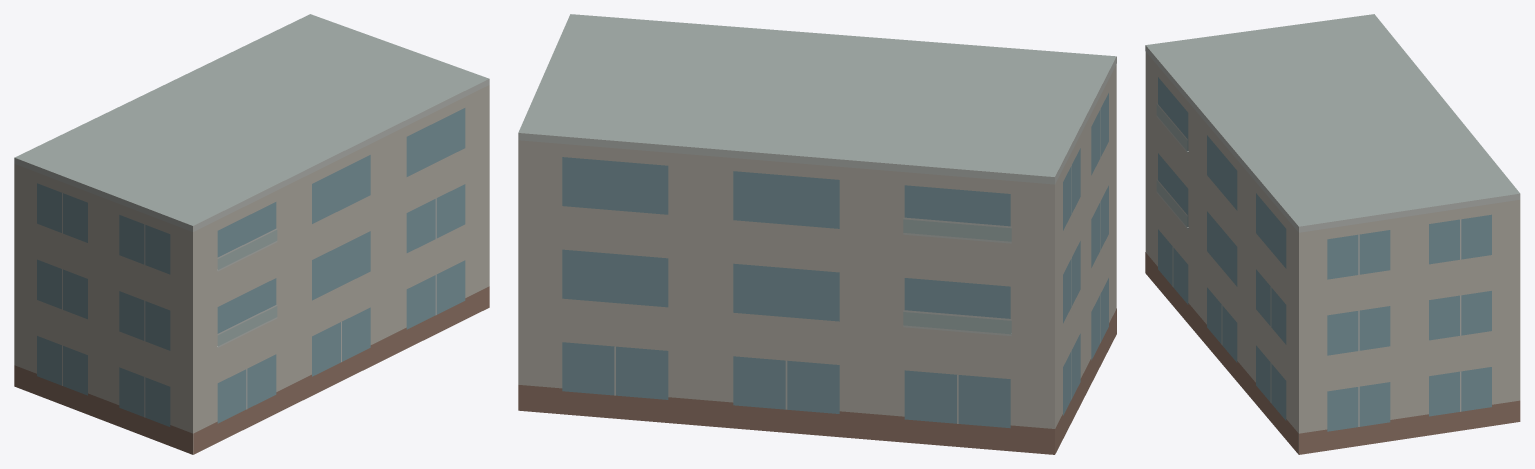
Rendered from survey-upis-32721279.glb.
3 renders of one model, left to right at view 1: azimuth 30°, elevation 25°; view 2: azimuth 150°, elevation 25°; view 3: azimuth 270°, elevation 25°, orthographic. The views are drawn at different scales.
Parts seen in each view (by area): view 1: survey-upis-32721279.tmp; view 2: survey-upis-32721279.tmp; view 3: survey-upis-32721279.tmp.
Boxes of the visible parts, x1,y1,x2,y2 form: survey-upis-32721279.tmp: (14,14,489,454); survey-upis-32721279.tmp: (518,14,1116,454); survey-upis-32721279.tmp: (1145,14,1520,454).
Bounding box in the file's own units: 18.3 × 9.15 × 13.63.
